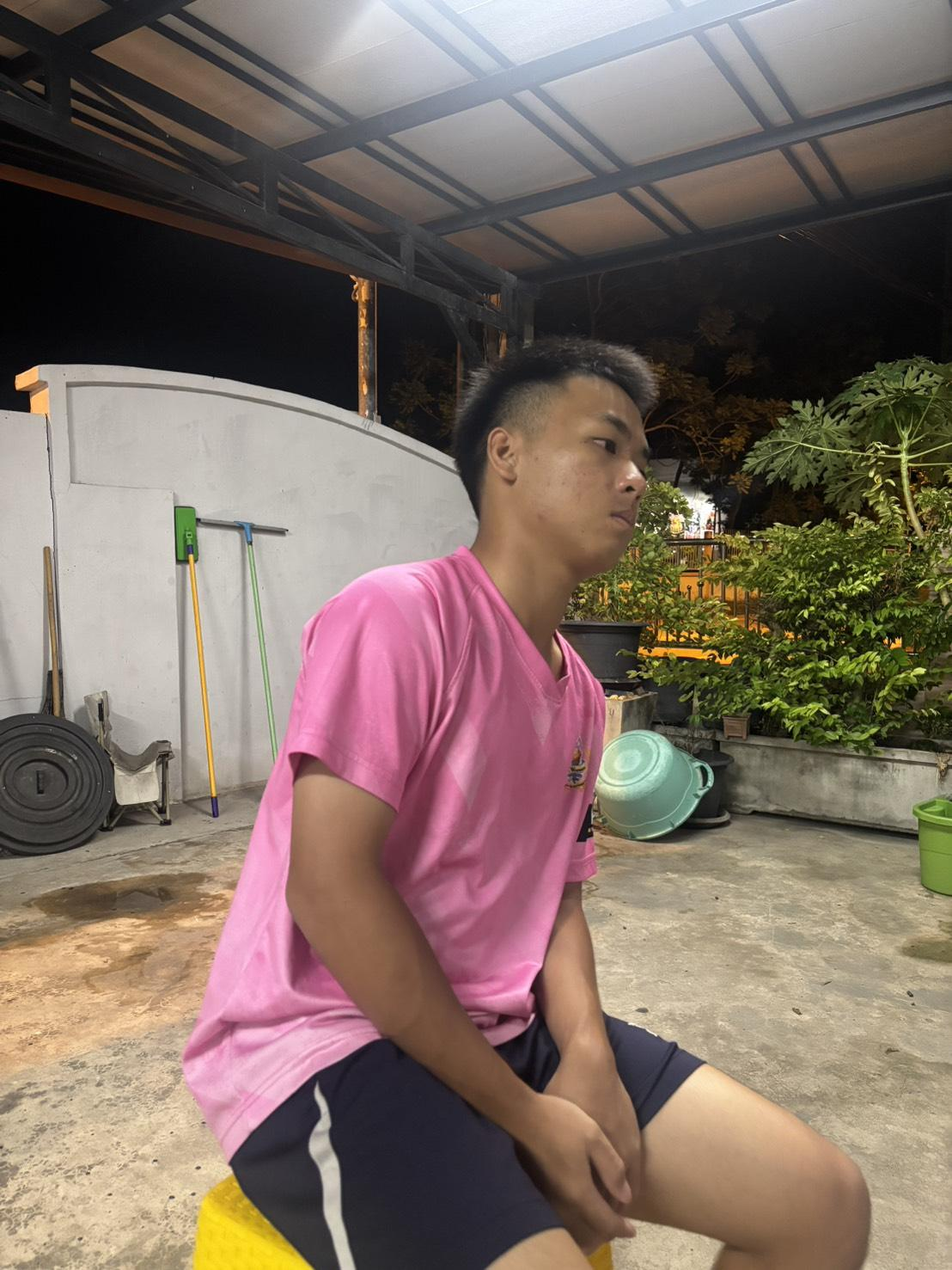BadPosture: (183, 339, 869, 1269)
